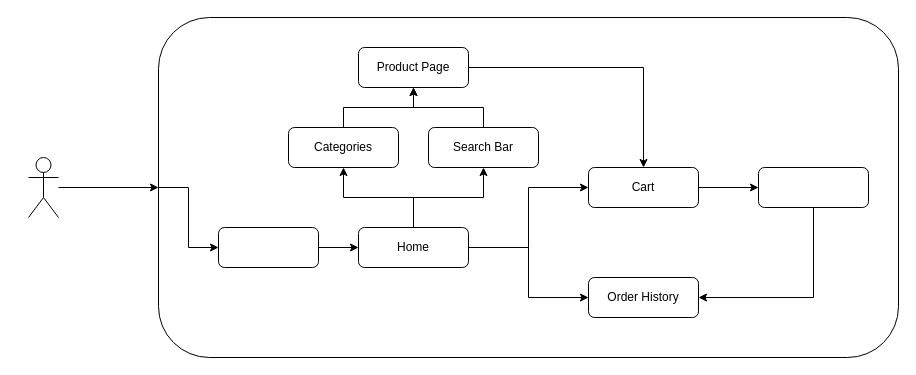
Image size: 916x375. Some labels were removed from this diagram. Here are the shapes that lost their labels. From the top down, the centre of each, then its label:
the point at 43,187: Customer
the point at 813,187: Payment
the point at 268,247: Login
